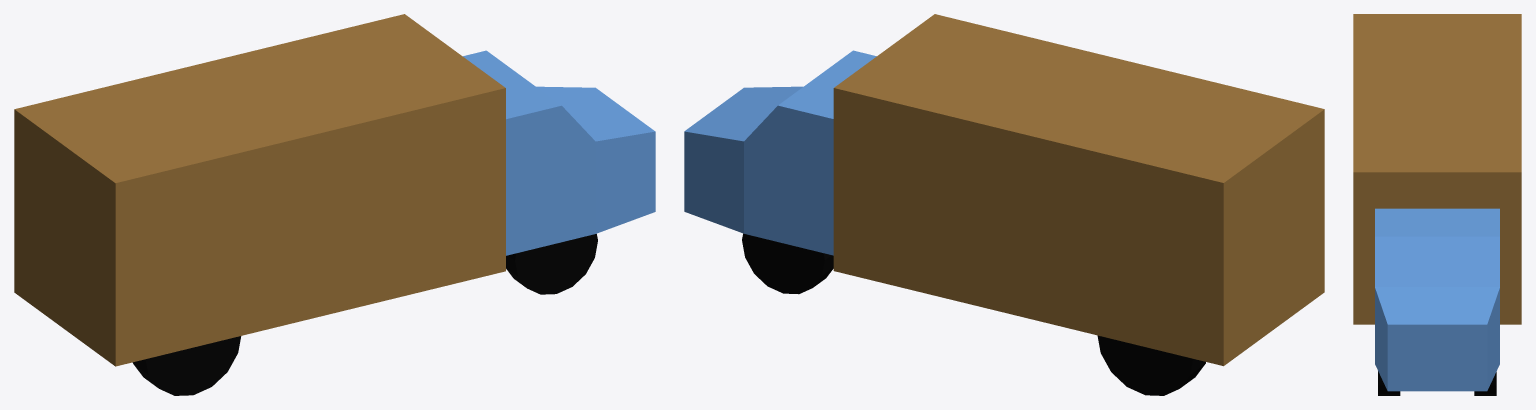
File: truck.fbx
3 views of the same model, side by side, from view 1: azimuth 30°, elevation 25°; view 2: azimuth 150°, elevation 25°; view 3: azimuth 270°, elevation 25° (orthographic). The views are drawn at different scales.
Parts seen in each view (by area): view 1: Cube, Cube.001, Cylinder.001, Cylinder; view 2: Cube, Cube.001, Cylinder.001, Cylinder; view 3: Cube, Cube.001, Cylinder.
Boxes of the visible parts, x1,y1,x2,y2 form: Cube: [14, 14, 505, 366]; Cube.001: [463, 50, 655, 255]; Cylinder.001: [132, 336, 241, 395]; Cylinder: [506, 234, 597, 294]; Cube: [833, 14, 1324, 366]; Cube.001: [684, 50, 876, 255]; Cylinder.001: [1097, 335, 1205, 395]; Cylinder: [742, 233, 833, 294]; Cube: [1353, 14, 1521, 324]; Cube.001: [1375, 208, 1499, 391]; Cylinder: [1378, 371, 1496, 395].
Bounding box in the file's own units: 640 × 262 × 200.
